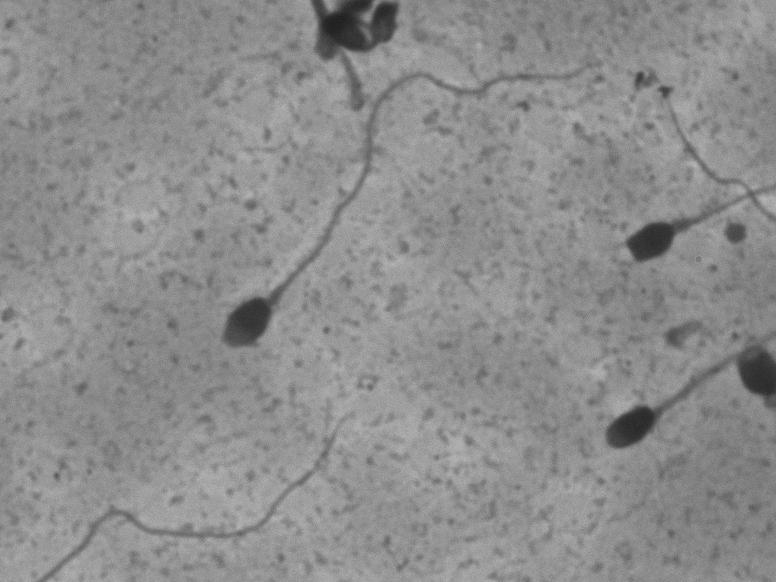Abnormal: (591, 364, 726, 489)
Normal: (197, 15, 589, 384)
